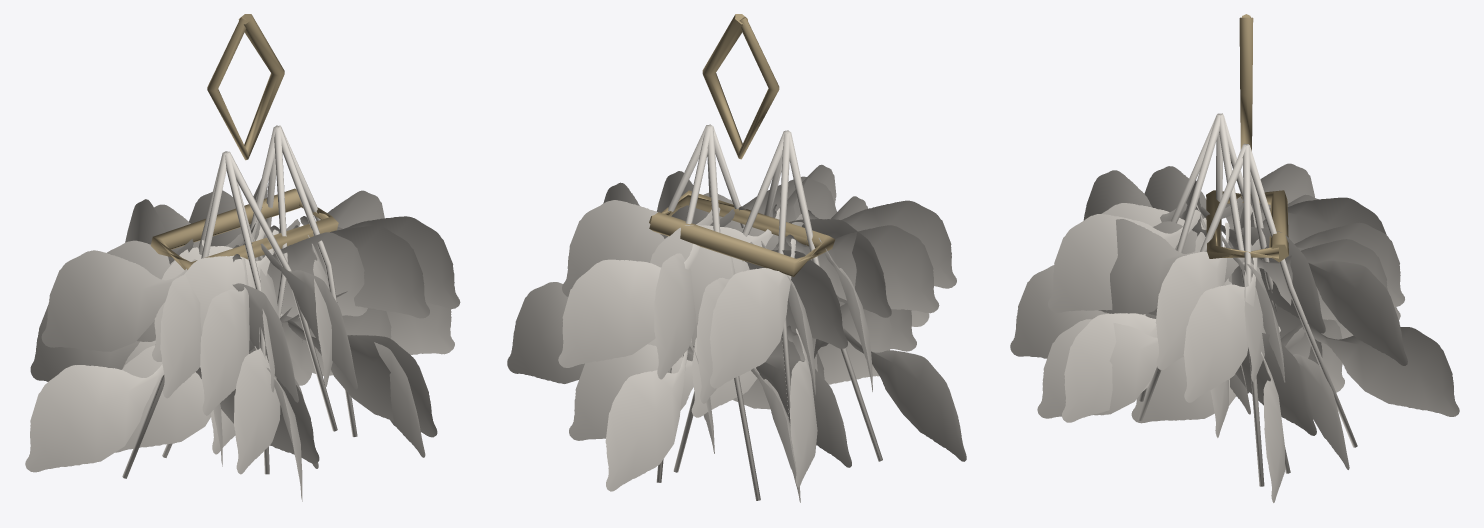
Rendered from CM_BotanicalPlanterKit01_Hanging_Sage.fbx.
3 views of the same model, side by side, from view 1: azimuth 30°, elevation 25°; view 2: azimuth 150°, elevation 25°; view 3: azimuth 270°, elevation 25° (orthographic). The views are drawn at different scales.
Visible parts, largest first — view 1: CM_BotanicalPlanterKit01_Hanging_Sage_FoliageDry, CM_BotanicalPlanterKit01_Hanging_Sage_Twine; view 2: CM_BotanicalPlanterKit01_Hanging_Sage_FoliageDry, CM_BotanicalPlanterKit01_Hanging_Sage_Twine; view 3: CM_BotanicalPlanterKit01_Hanging_Sage_FoliageDry, CM_BotanicalPlanterKit01_Hanging_Sage_Twine.
Part boxes in pixels (x1,y1,x2,y2): CM_BotanicalPlanterKit01_Hanging_Sage_FoliageDry: (25, 125, 460, 501); CM_BotanicalPlanterKit01_Hanging_Sage_Twine: (150, 14, 338, 269); CM_BotanicalPlanterKit01_Hanging_Sage_FoliageDry: (507, 124, 966, 502); CM_BotanicalPlanterKit01_Hanging_Sage_Twine: (649, 14, 835, 276); CM_BotanicalPlanterKit01_Hanging_Sage_FoliageDry: (1010, 113, 1459, 502); CM_BotanicalPlanterKit01_Hanging_Sage_Twine: (1206, 14, 1288, 262).
Size of the model in its own units: 0.3949 by 0.3697 by 0.3585.
